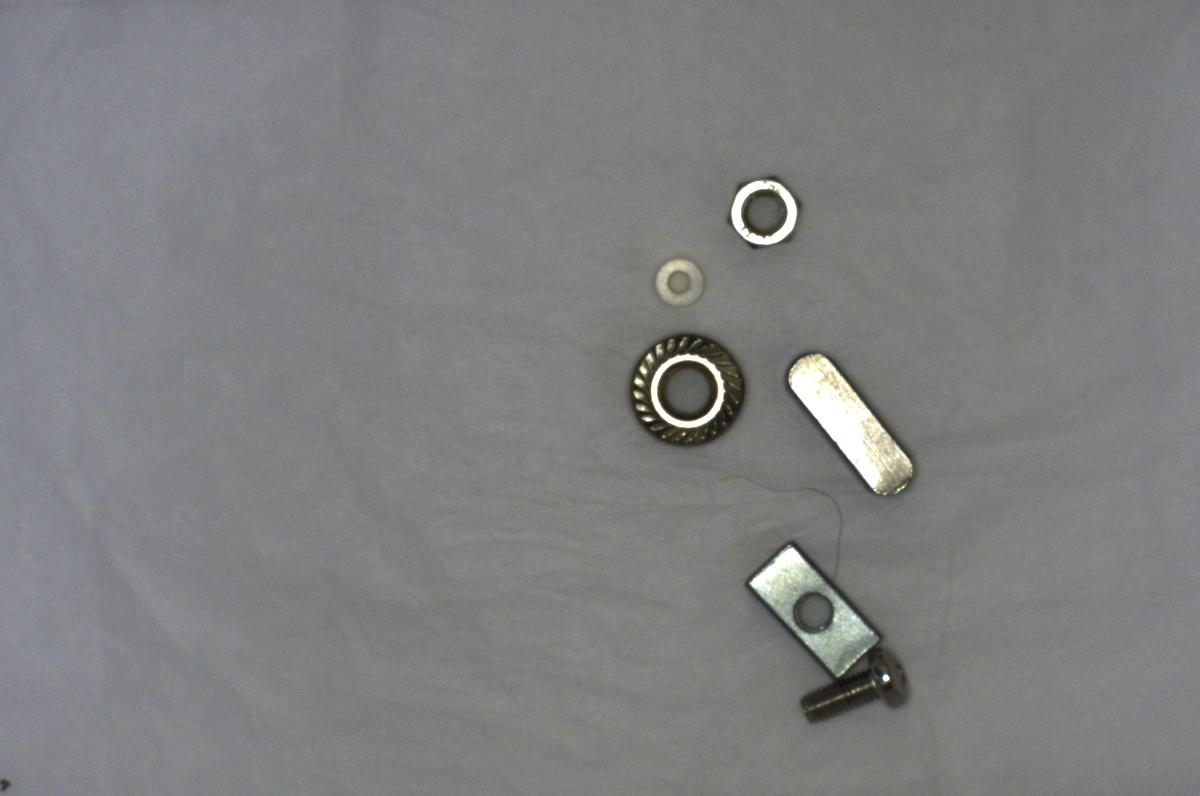Flange nut: (621, 321, 755, 458)
Hexagon nut: (717, 167, 810, 253)
Keybar: (783, 341, 926, 509)
Plastic cushion pillar: (644, 245, 716, 315)
Rectangular nut: (741, 532, 884, 674)
Round head screw: (780, 644, 929, 737)
